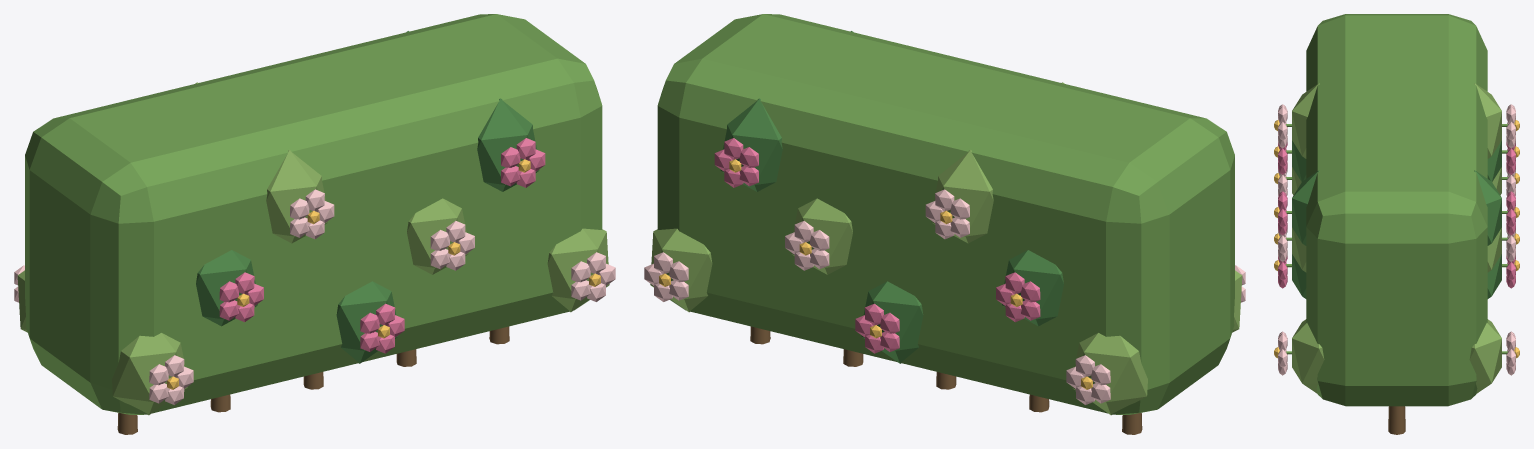
File: hedge_flowering.glb
The picture shows the model from 3 angles, left to right: view 1: azimuth 30°, elevation 25°; view 2: azimuth 150°, elevation 25°; view 3: azimuth 270°, elevation 25°; orthographic projection. The views are drawn at different scales.
Visible parts, largest first — view 1: Flowering hedge foliage, Flower leaf cluster, Flower leaf cluster.002, Flower leaf cluster.005, Flower leaf cluster.006, Flower leaf cluster.003, Flower leaf cluster.004, Flower leaf cluster.001; view 2: Flowering hedge foliage, Flower leaf cluster.007, Flower leaf cluster.009, Flower leaf cluster.012, Flower leaf cluster.013, Flower leaf cluster.010, Flower leaf cluster.011, Flower leaf cluster.008; view 3: Flowering hedge foliage, Flower leaf cluster.006, Flower leaf cluster.013, Flower leaf cluster.005, Flower leaf cluster.012, Flower leaf cluster.002, Flower leaf cluster.009, Short woody stem.004, Flower leaf cluster.004, Flower leaf cluster.011, Flower leaf cluster.003, Flower leaf cluster.010 (+2 smaller).
Part boxes in pixels (x1,y1,x2,y2): Flowering hedge foliage: [25, 14, 602, 414]; Flower leaf cluster: [112, 333, 187, 415]; Flower leaf cluster.002: [266, 150, 328, 243]; Flower leaf cluster.005: [477, 98, 539, 191]; Flower leaf cluster.006: [547, 228, 609, 312]; Flower leaf cluster.003: [336, 281, 398, 363]; Flower leaf cluster.004: [407, 198, 468, 274]; Flower leaf cluster.001: [196, 250, 257, 326]; Flowering hedge foliage: [657, 14, 1234, 414]; Flower leaf cluster.007: [1072, 333, 1147, 415]; Flower leaf cluster.009: [931, 150, 993, 243]; Flower leaf cluster.012: [720, 98, 782, 191]; Flower leaf cluster.013: [650, 228, 712, 312]; Flower leaf cluster.010: [861, 281, 923, 363]; Flower leaf cluster.011: [791, 198, 852, 274]; Flower leaf cluster.008: [1002, 250, 1063, 326]; Flowering hedge foliage: [1306, 14, 1487, 406]; Flower leaf cluster.006: [1292, 319, 1324, 393]; Flower leaf cluster.013: [1469, 319, 1501, 393]; Flower leaf cluster.005: [1292, 170, 1319, 245]; Flower leaf cluster.012: [1474, 170, 1501, 245]; Flower leaf cluster.002: [1292, 83, 1319, 158]; Flower leaf cluster.009: [1474, 83, 1501, 158]; Short woody stem.004: [1388, 406, 1405, 434]; Flower leaf cluster.004: [1292, 227, 1306, 272]; Flower leaf cluster.011: [1487, 227, 1501, 272]; Flower leaf cluster.003: [1292, 254, 1306, 298]; Flower leaf cluster.010: [1487, 254, 1501, 298].
Bounding box in the file's own units: 2.02 × 1.13 × 1.
